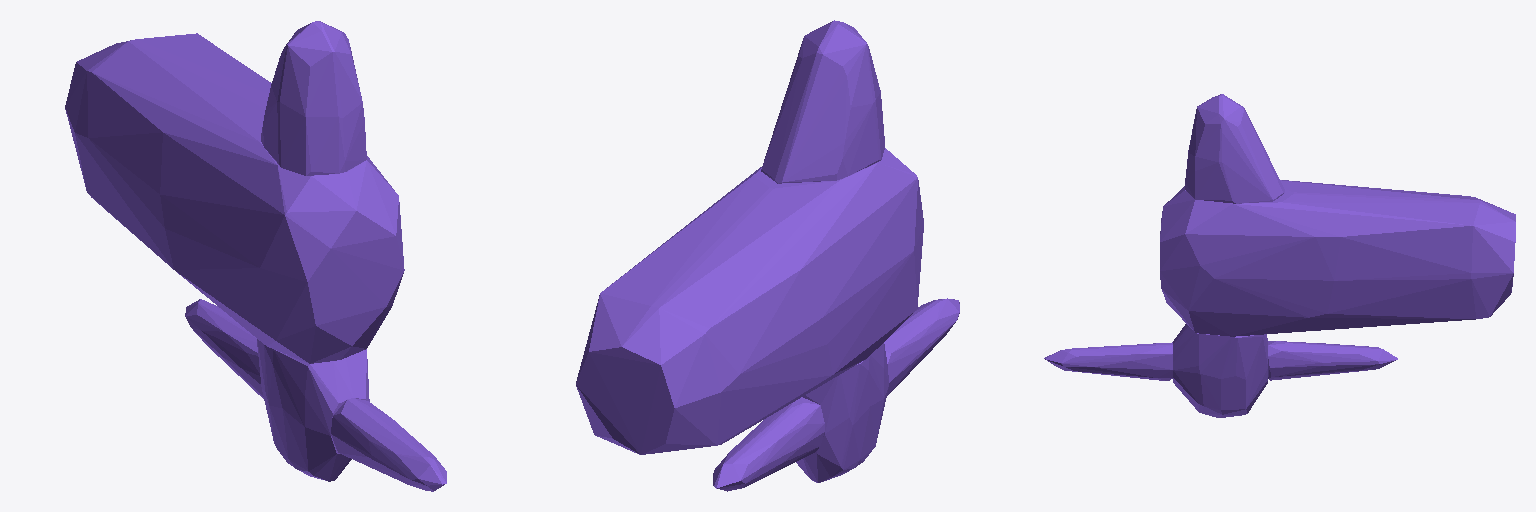
robot.urdf — blob582:
<robot name="blob582">
  <link name="random_obj_582">
    <contact>
      <lateral_friction value="1.0"/>
      <rolling_friction value="0.0"/>
      <inertia_scaling value="3.0"/>
      <contact_cfm value="0.0"/>
      <contact_erp value="1.0"/>
    </contact>
    <inertial>
      <origin rpy="0 0 0" xyz="0 0 0"/>
      <mass value="0.1"/>
      <inertia ixx="1" ixy="0" ixz="0" iyy="1" iyz="0" izz="0"/>
    </inertial>
    <visual>
      <origin rpy="0 0 0" xyz="0 0 0"/>
      <geometry>
        <mesh filename="582.obj" scale="0.015 0.015 0.015"/>
      </geometry>
      <material name="blockmat">
        <color rgba="0.56 0.42 0.86 1"/>
      </material>
    </visual>
    <collision>
      <origin rpy="0 0 0" xyz="0 0 0"/>
      <geometry>
        <mesh filename="582.obj" scale="0.015 0.015 0.015"/>
      </geometry>
    </collision>
  </link>
</robot>

--- Facts derived from the render (not from the file) ---
Views: 3 orthographic renders of the robot side by side, from view 1: azimuth 30°, elevation 25°; view 2: azimuth 150°, elevation 25°; view 3: azimuth 270°, elevation 25°.
Model blob582 with 1 links and 0 joints (none), rooted at random_obj_582, posed all joints at 0.
Visible links, largest first — view 1: random_obj_582; view 2: random_obj_582; view 3: random_obj_582.
Link boxes in pixels (bbox=[...]): random_obj_582: bbox=[65, 21, 446, 491]; random_obj_582: bbox=[576, 20, 959, 491]; random_obj_582: bbox=[1044, 94, 1515, 417].
Bounding box of the posed robot: 0.0299 × 0.1207 × 0.0911 m (x, y, z).
Meshes: 1 distinct files referenced, 1 mesh visuals loaded (1 OBJ).